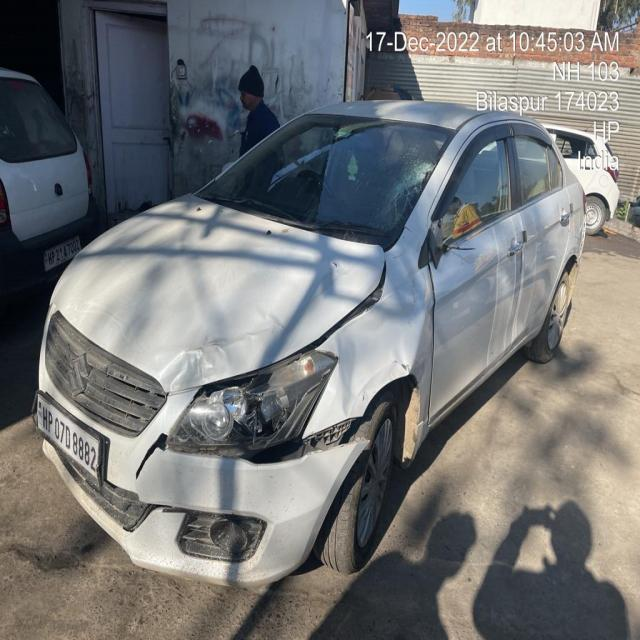damage: (341, 282, 445, 414), (177, 369, 306, 453), (160, 304, 284, 385), (298, 419, 363, 458), (135, 432, 169, 495), (327, 256, 342, 278)
